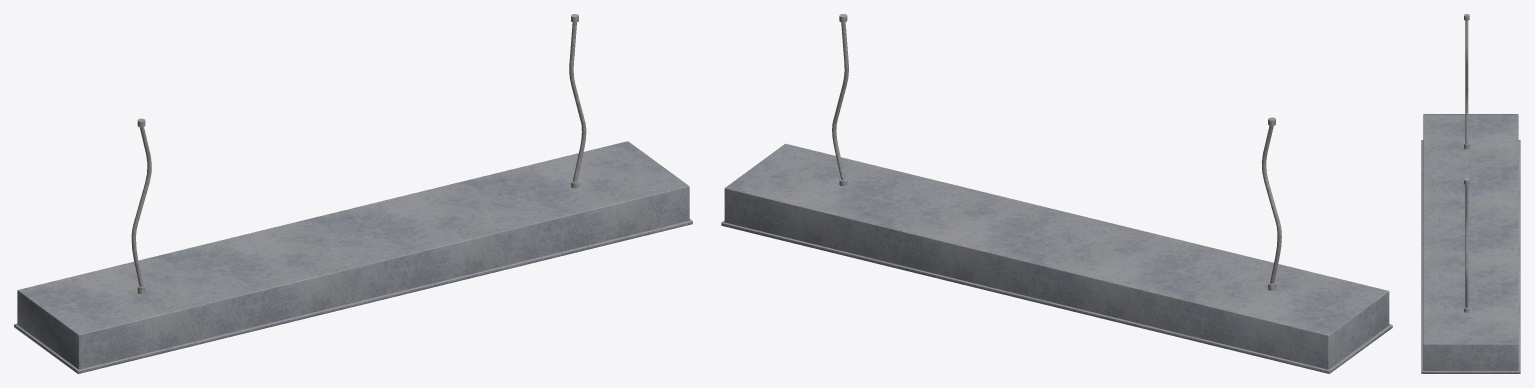
File: Lamp.FBX
3 renders of one model, left to right at view 1: azimuth 30°, elevation 25°; view 2: azimuth 150°, elevation 25°; view 3: azimuth 270°, elevation 25°, orthographic. The views are drawn at different scales.
Parts seen in each view (by area): view 1: Lamp; view 2: Lamp; view 3: Lamp.
Boxes of the visible parts, x1,y1,x2,y2 form: Lamp: [14, 14, 692, 373]; Lamp: [721, 14, 1392, 373]; Lamp: [1421, 14, 1520, 373].
Bounding box in the file's own units: 793 × 258 × 143.
